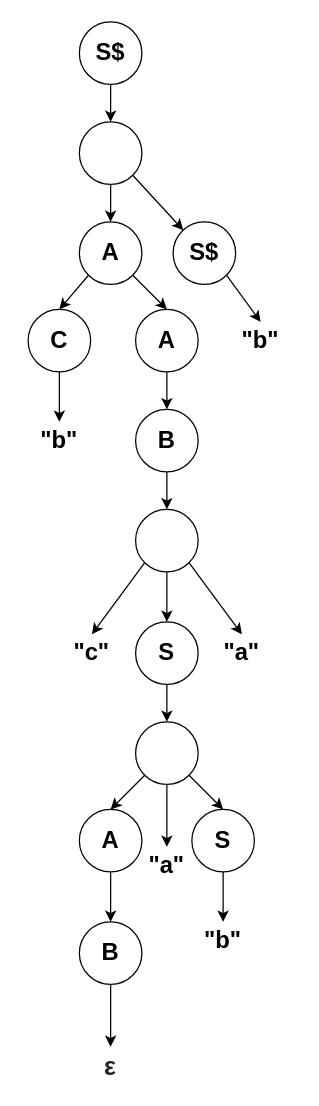
Some shapes in this 319 by 1106 pixel diagram are drawn without their labels. The shapes that lost their labels are listed below. From the top down, each one's centre as x and y in pixels, then its label:
(x=110, y=152): AaS$
(x=166, y=540): cSa
(x=166, y=752): AaS
